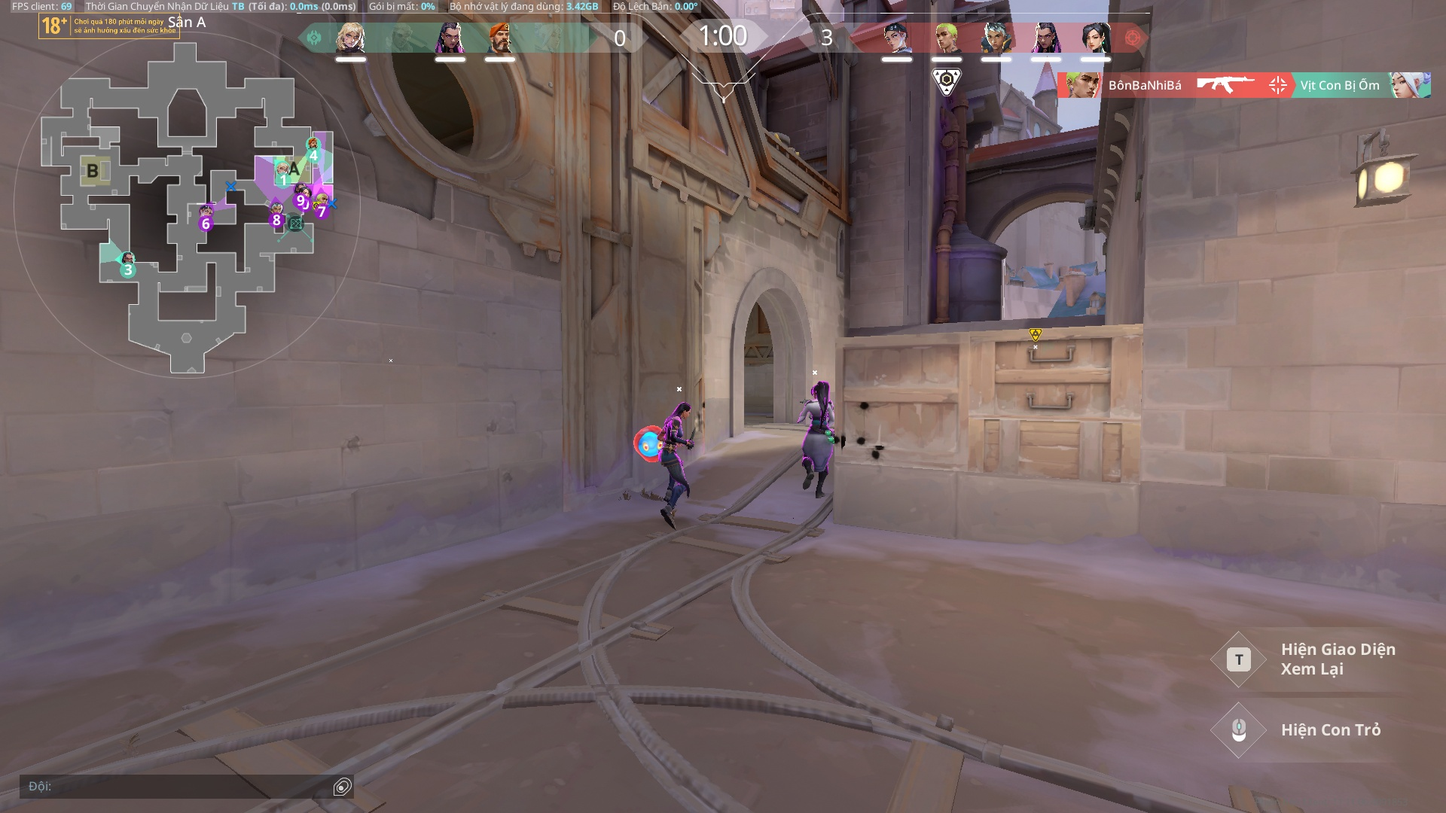body: (806, 398, 834, 430), (663, 416, 683, 446)
head: (673, 400, 690, 419), (810, 382, 824, 400)
